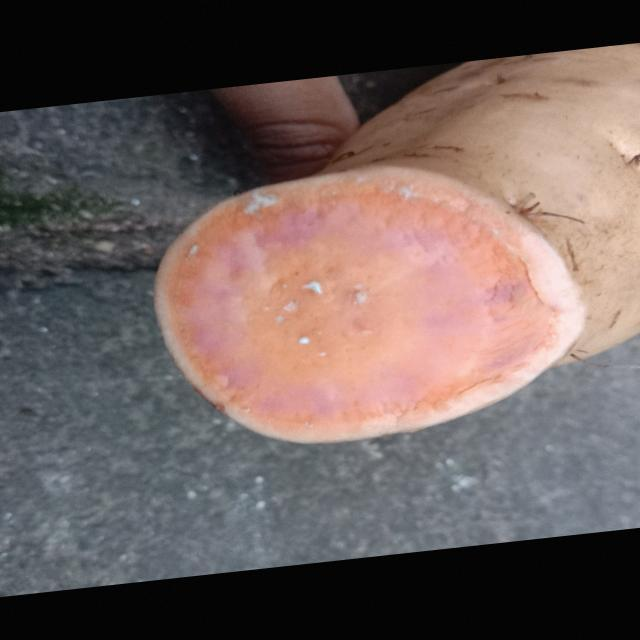Healthy Sweet Potato: (155, 166, 585, 442)
